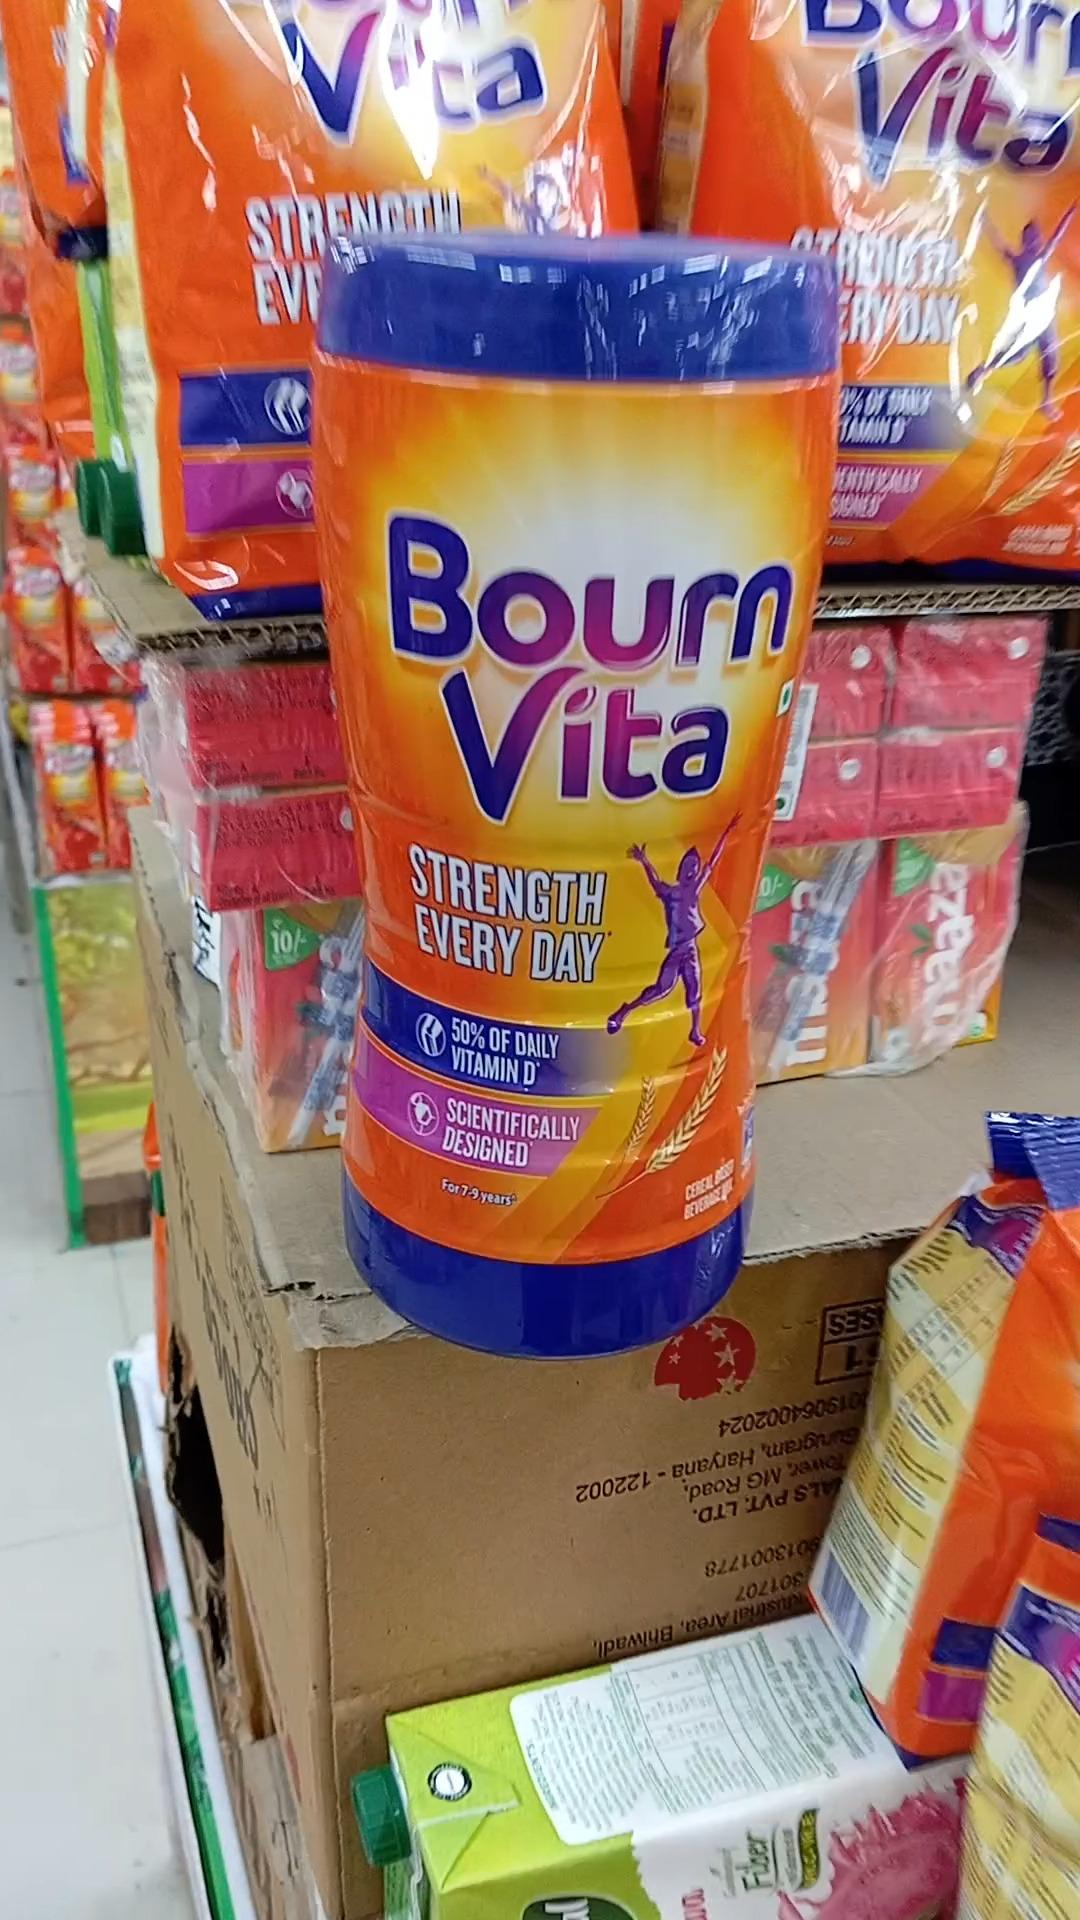BOURN_VITA_1_KG_JAR: (313, 222, 769, 1356)
